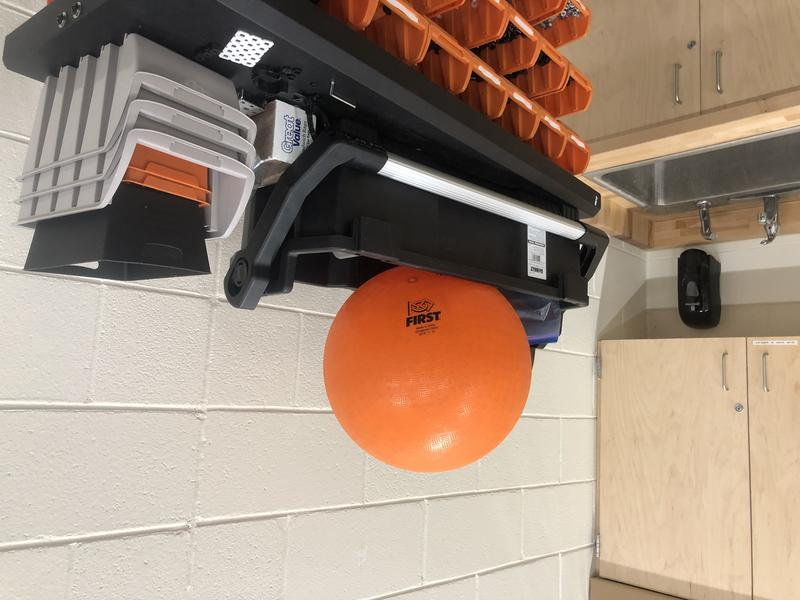ball: (324, 261, 532, 473)
